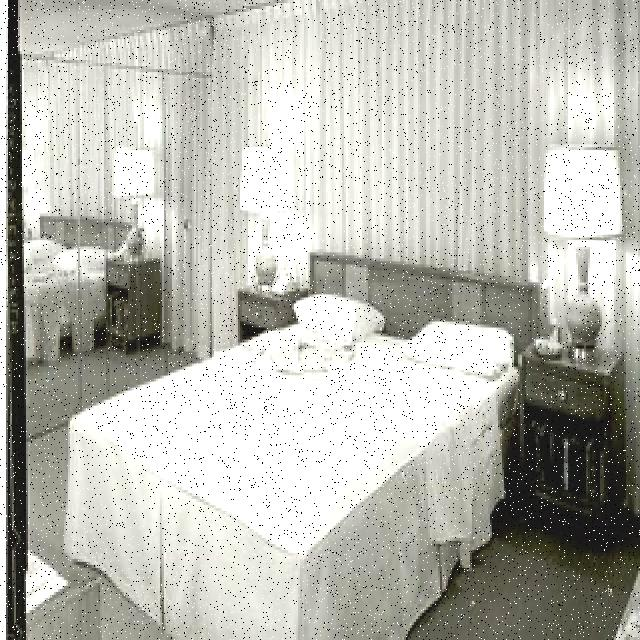bed: (55, 256, 537, 640)
